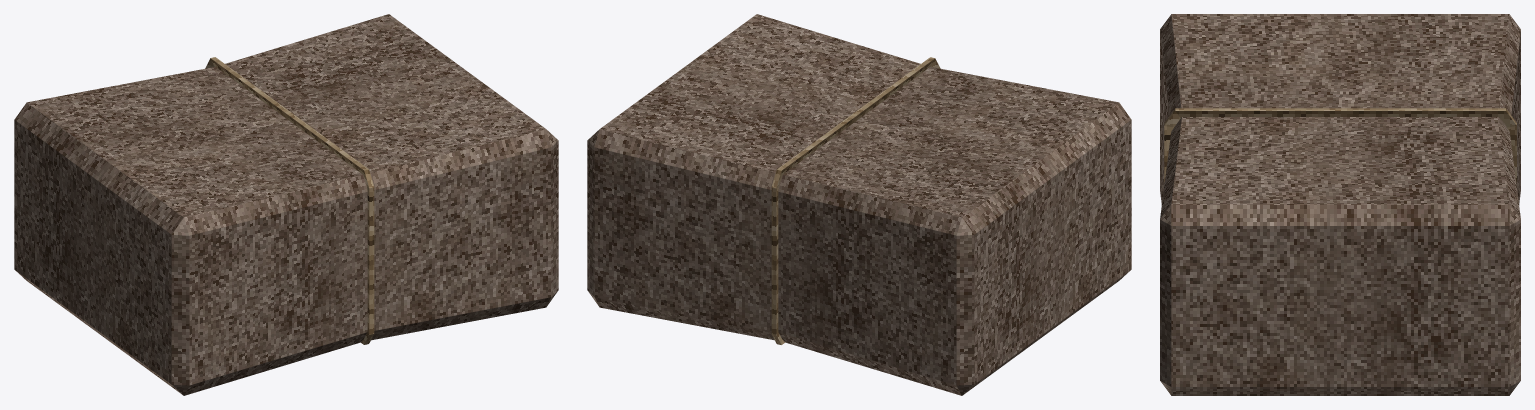
Rendered from haybale_wrapped_dry.glb.
3 views of the same model, side by side, from view 1: azimuth 30°, elevation 25°; view 2: azimuth 150°, elevation 25°; view 3: azimuth 270°, elevation 25° (orthographic). The views are drawn at different scales.
Parts seen in each view (by area): view 1: haybale_wrapped_dry; view 2: haybale_wrapped_dry; view 3: haybale_wrapped_dry.
Boxes of the visible parts, x1=… form: haybale_wrapped_dry: x1=14, y1=14, x2=558, y2=395; haybale_wrapped_dry: x1=587, y1=14, x2=1131, y2=395; haybale_wrapped_dry: x1=1160, y1=14, x2=1520, y2=395.
Size of the model in its own units: 1.8 by 0.7983 by 1.35.
2 materials, 2 textured.
